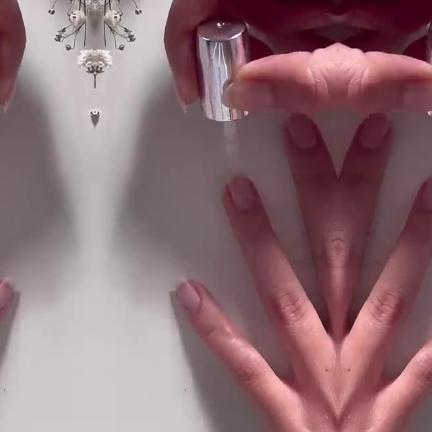Nail: (222, 80, 271, 111), (285, 115, 317, 149), (357, 115, 389, 149), (173, 277, 200, 312), (227, 174, 253, 210), (403, 80, 432, 111), (171, 72, 185, 115), (3, 72, 17, 115), (0, 277, 15, 310), (421, 175, 432, 210)
